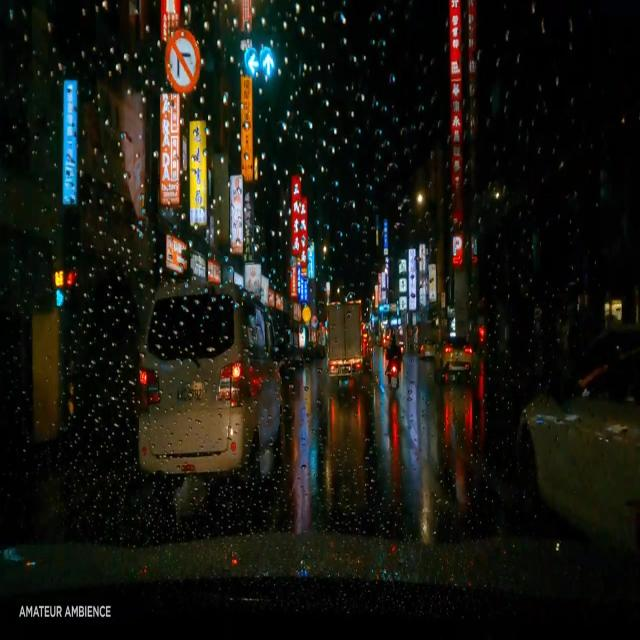Car: (131, 281, 280, 493), (520, 321, 639, 579), (431, 328, 471, 378)
